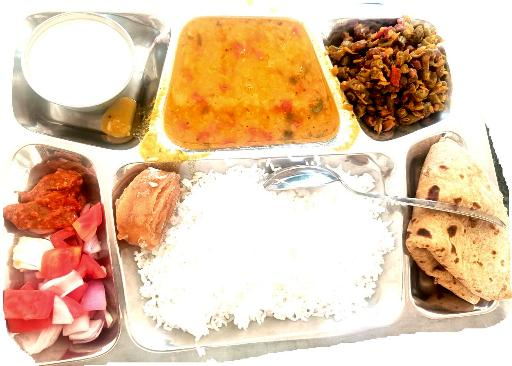Curd: (16, 5, 141, 124)
Dal: (158, 9, 334, 145)
Pickle: (2, 147, 88, 232)
Rice: (142, 161, 405, 345)
Roti: (407, 133, 512, 343)
Salad: (2, 235, 115, 363)
Sweet: (117, 162, 187, 256)
Vegetable: (333, 8, 490, 132)
